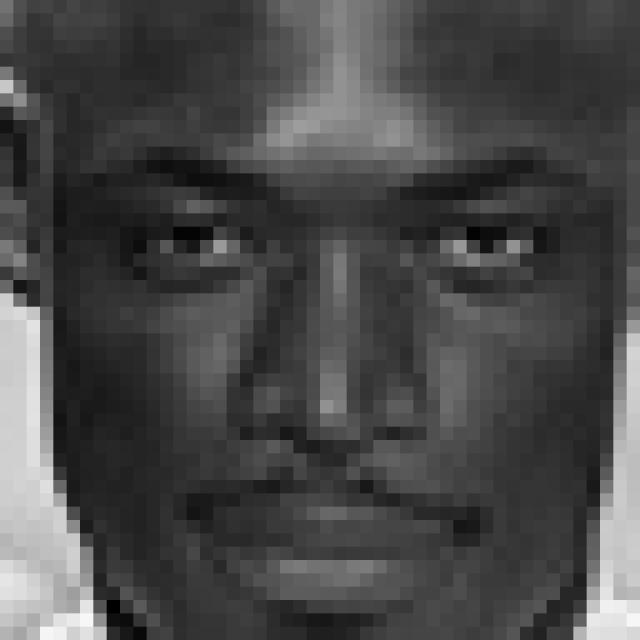neutral: (103, 142, 595, 619)
